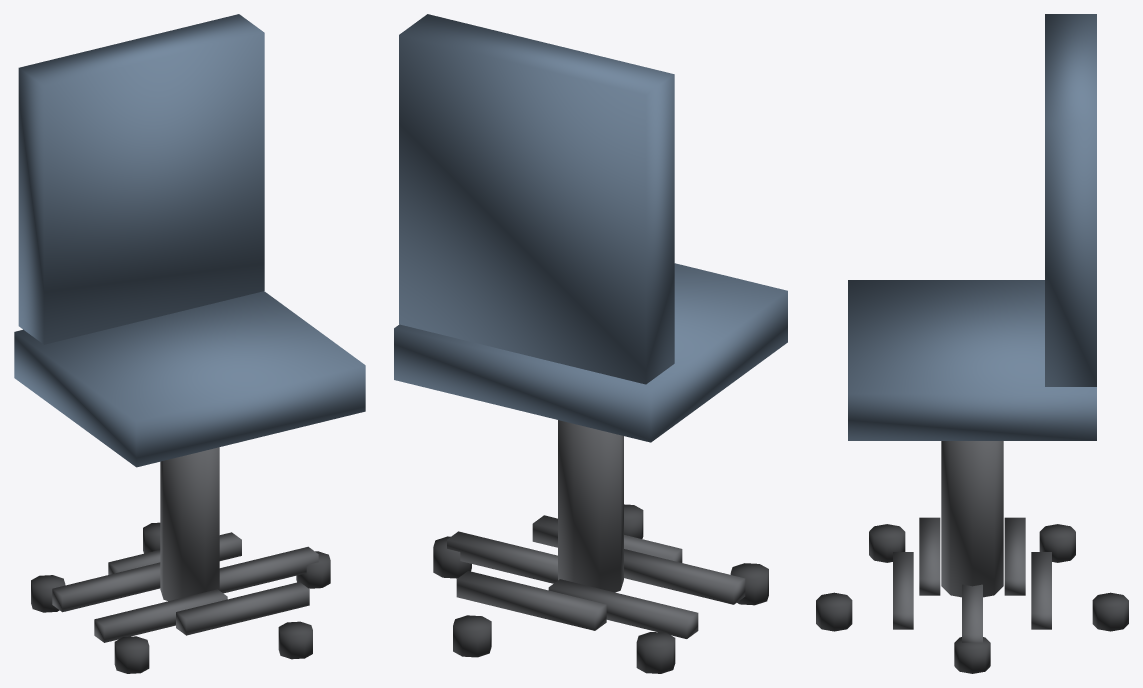
Rendered from office_task_chair.glb.
3 views of the same model, side by side, from view 1: azimuth 30°, elevation 25°; view 2: azimuth 150°, elevation 25°; view 3: azimuth 270°, elevation 25° (orthographic). The views are drawn at different scales.
Parts seen in each view (by area): view 1: world; view 2: world; view 3: world.
Boxes of the visible parts, bbox=[...] form: world: bbox=[14, 14, 365, 673]; world: bbox=[394, 14, 787, 673]; world: bbox=[816, 14, 1128, 673].
Size of the model in its own units: 0.5765 by 1.14 by 0.6026.
